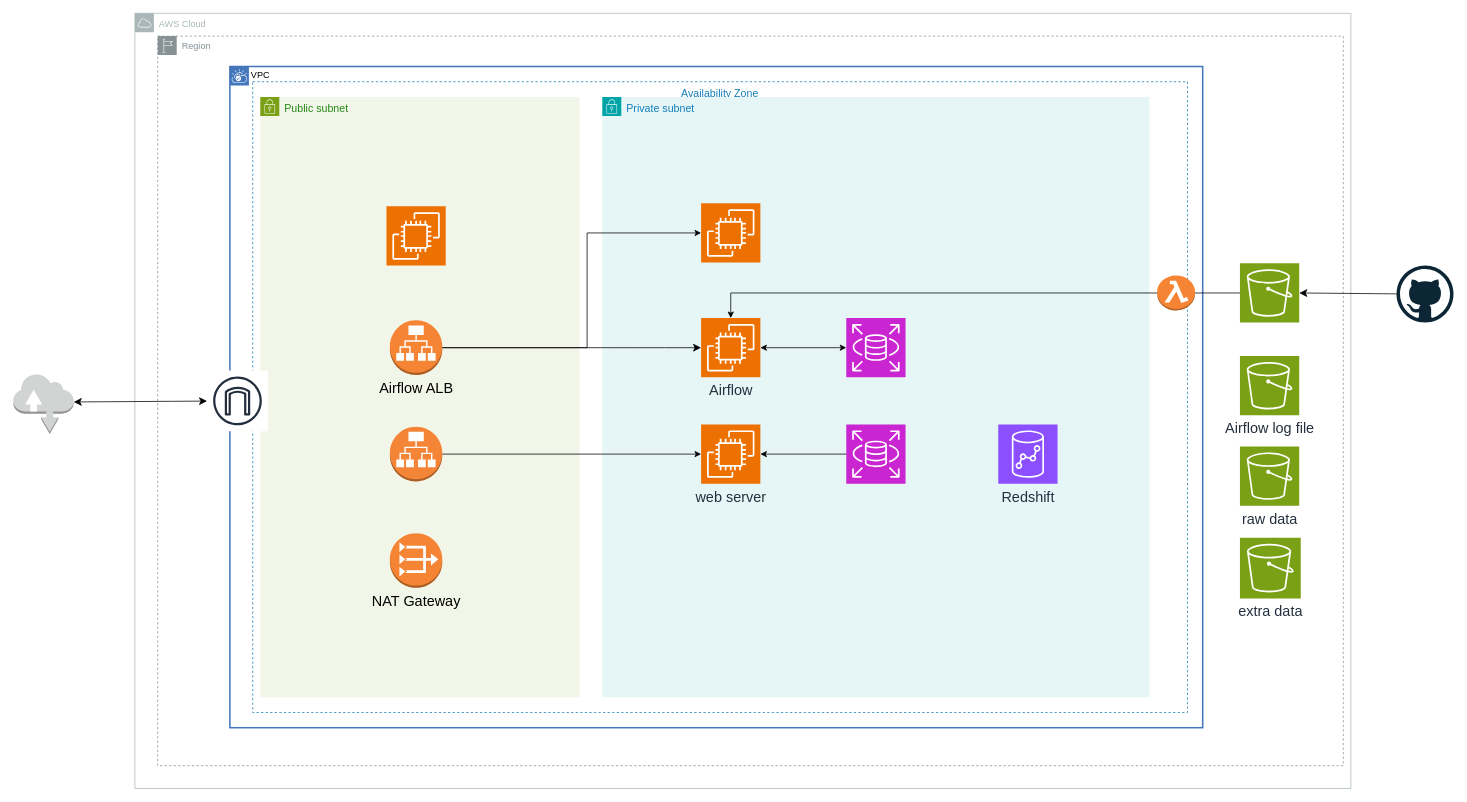
Image size: 1467x802. Some labels were removed from this diagram. Here are the shapes that lost their labels. From the top down, the centre of each, then its label:
At point (416, 236): "Bastion Host".
At point (730, 233): "BI tool".
At point (1269, 293): "Airflow dags file".
At point (876, 347): "Airflow metastore".
At point (237, 400): "Internet gateway".
At point (415, 453): "web server ALB".
At point (876, 454): "production DB".
